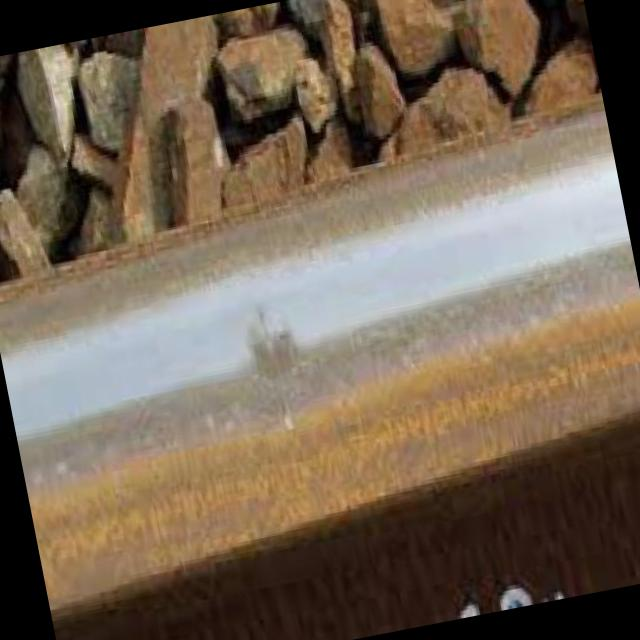non-defective: (0, 122, 640, 608)
